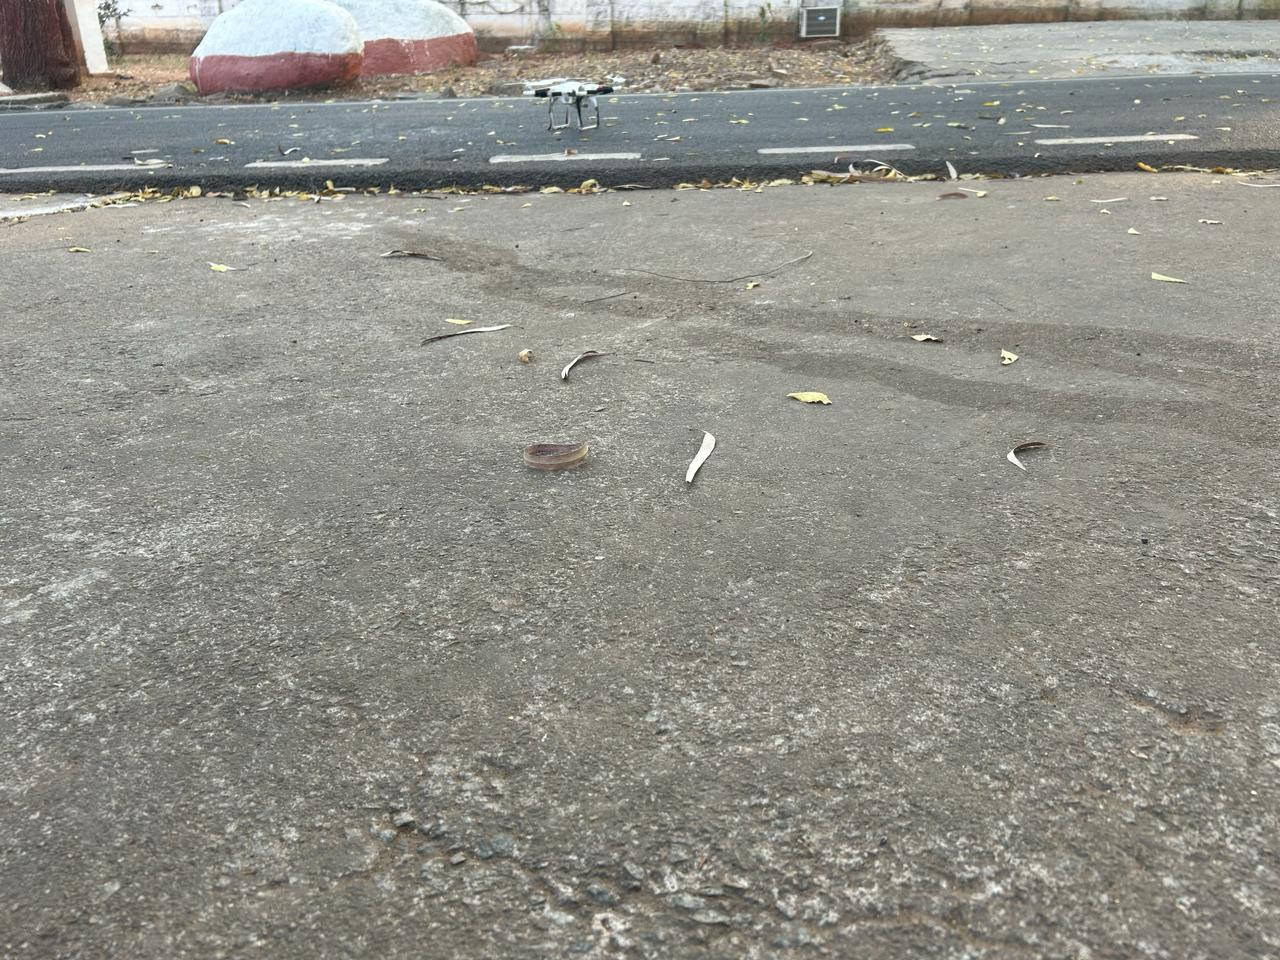drone: (516, 22, 627, 164)
